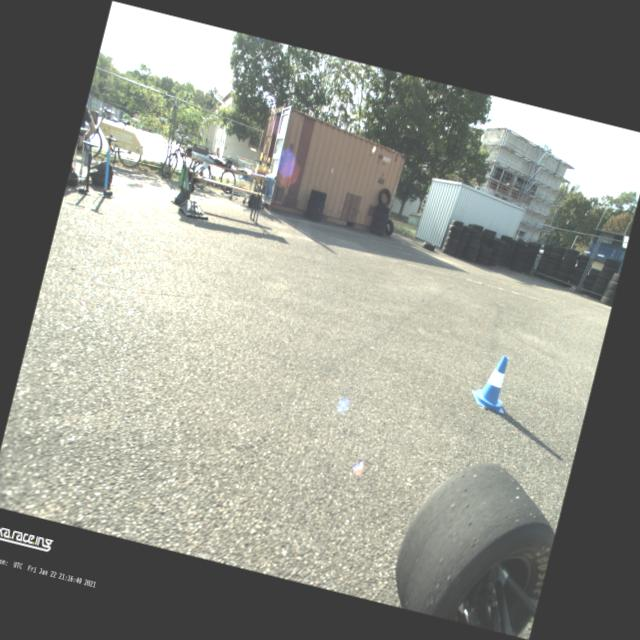blue_cone: (468, 350, 516, 413)
yellow_cone: (262, 156, 272, 172), (256, 156, 264, 171)
